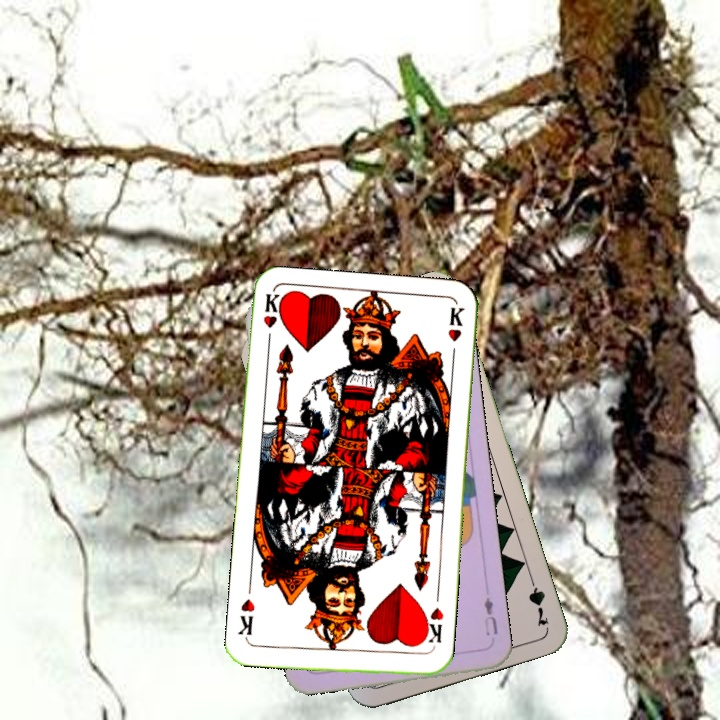EU: (480, 593, 501, 639)
G7: (524, 570, 551, 629)
HK: (259, 291, 285, 350), (418, 603, 446, 646)
